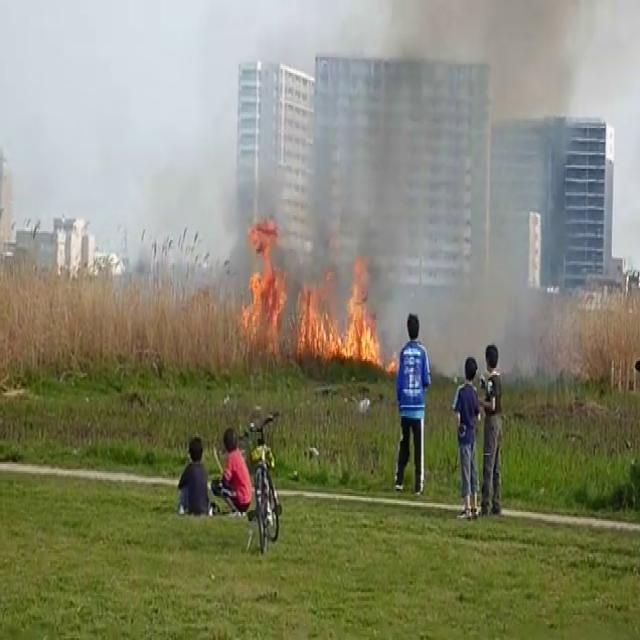Fire: (230, 216, 382, 365)
Smoke: (342, 1, 592, 291)
